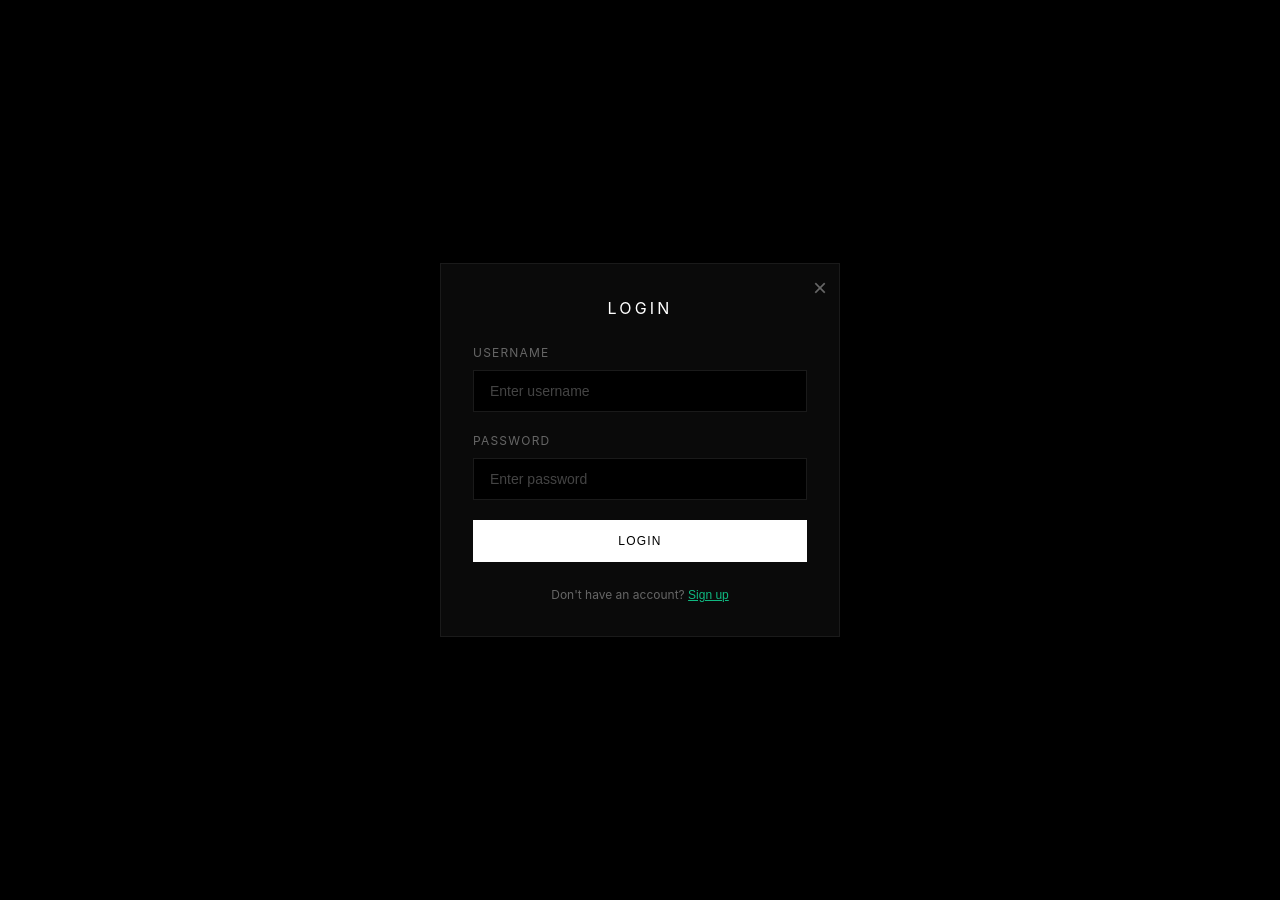
AuthModal › displays error message on login failure
This screenshot has width=1280, height=900.
In the field labelled "Username": (640, 391) 473,370 -> 807,412, type "testuser"
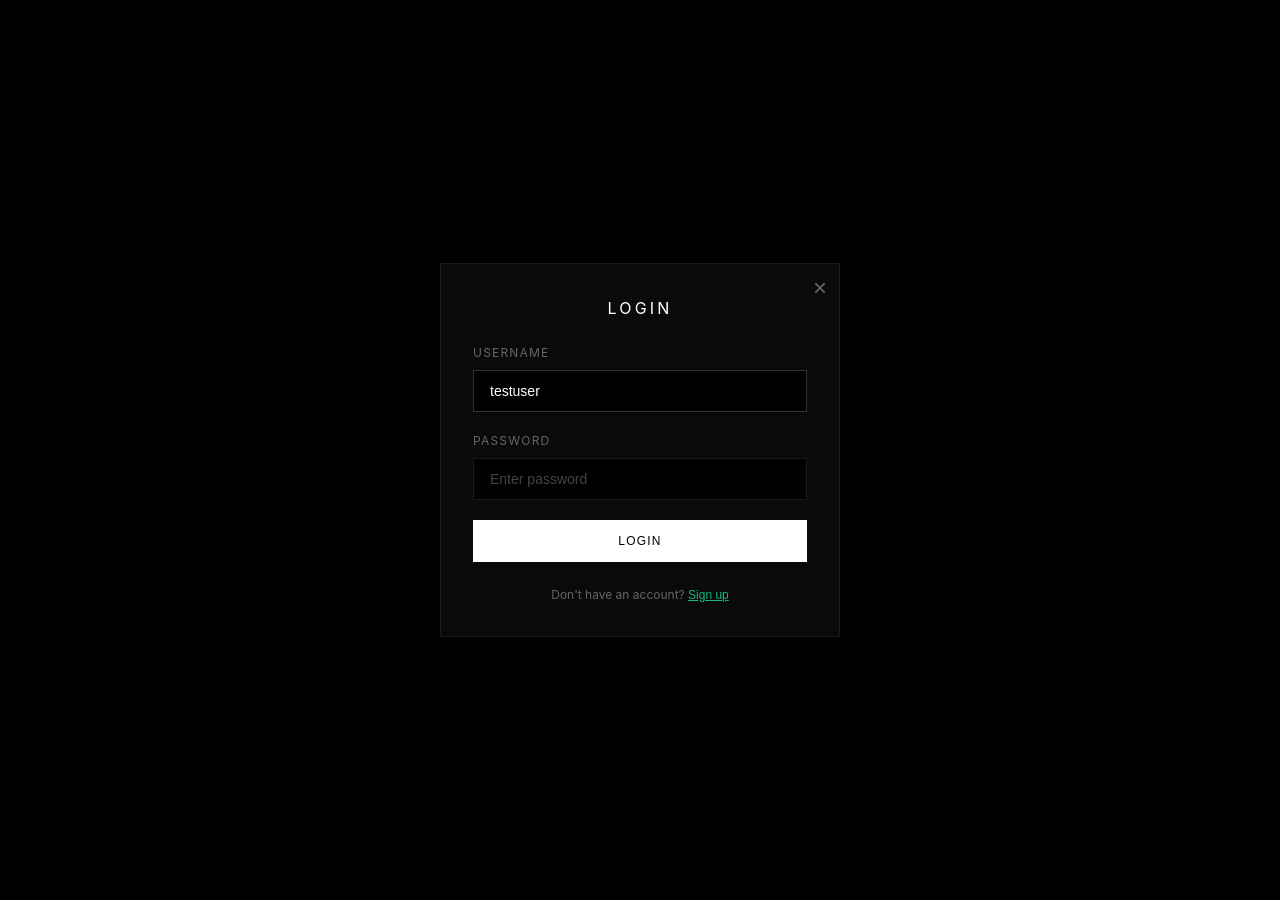
In the password field labelled "Password": (640, 479) 473,458 -> 807,500, type "wrongpassword"
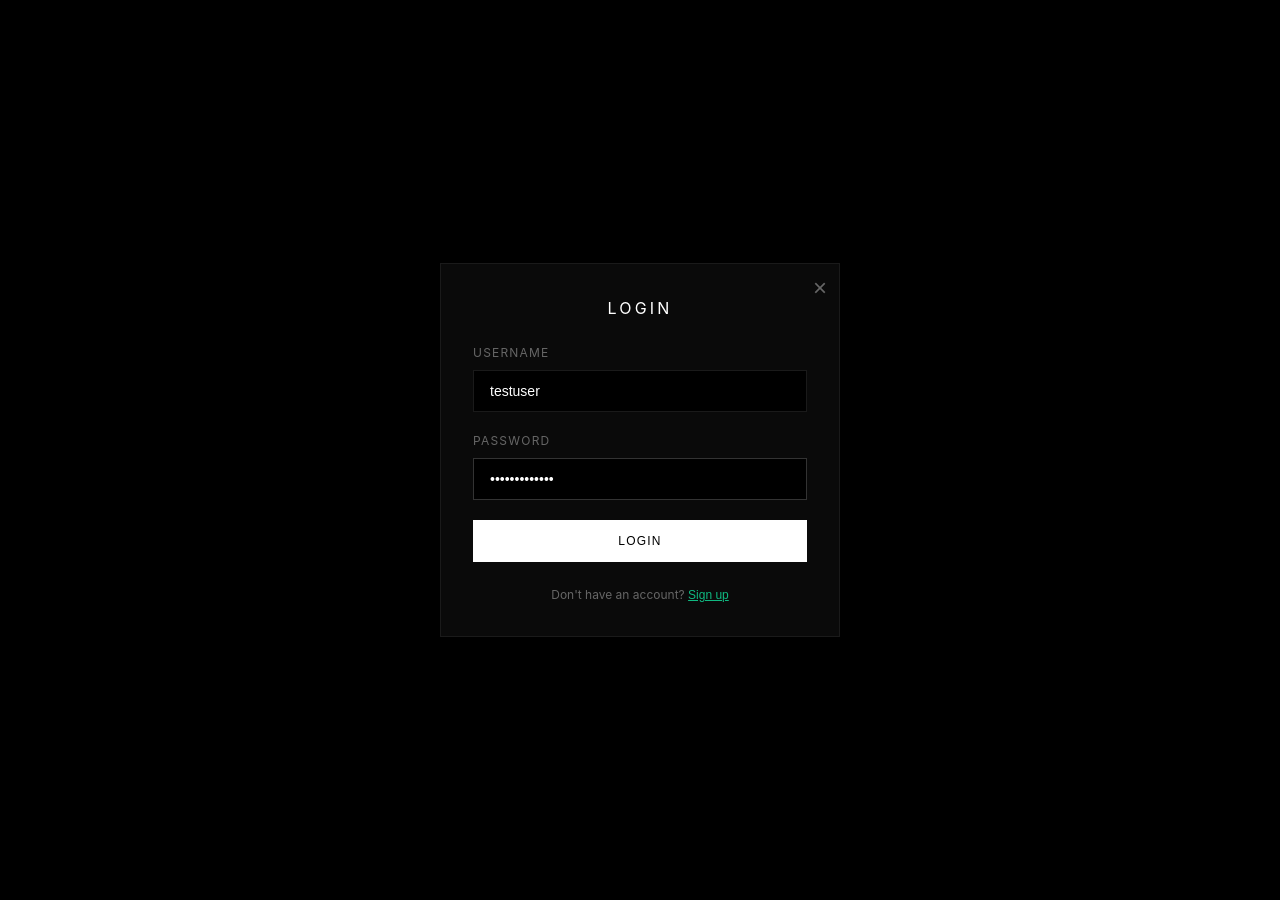
Click the button "Login": (640, 541) 473,520 -> 807,562
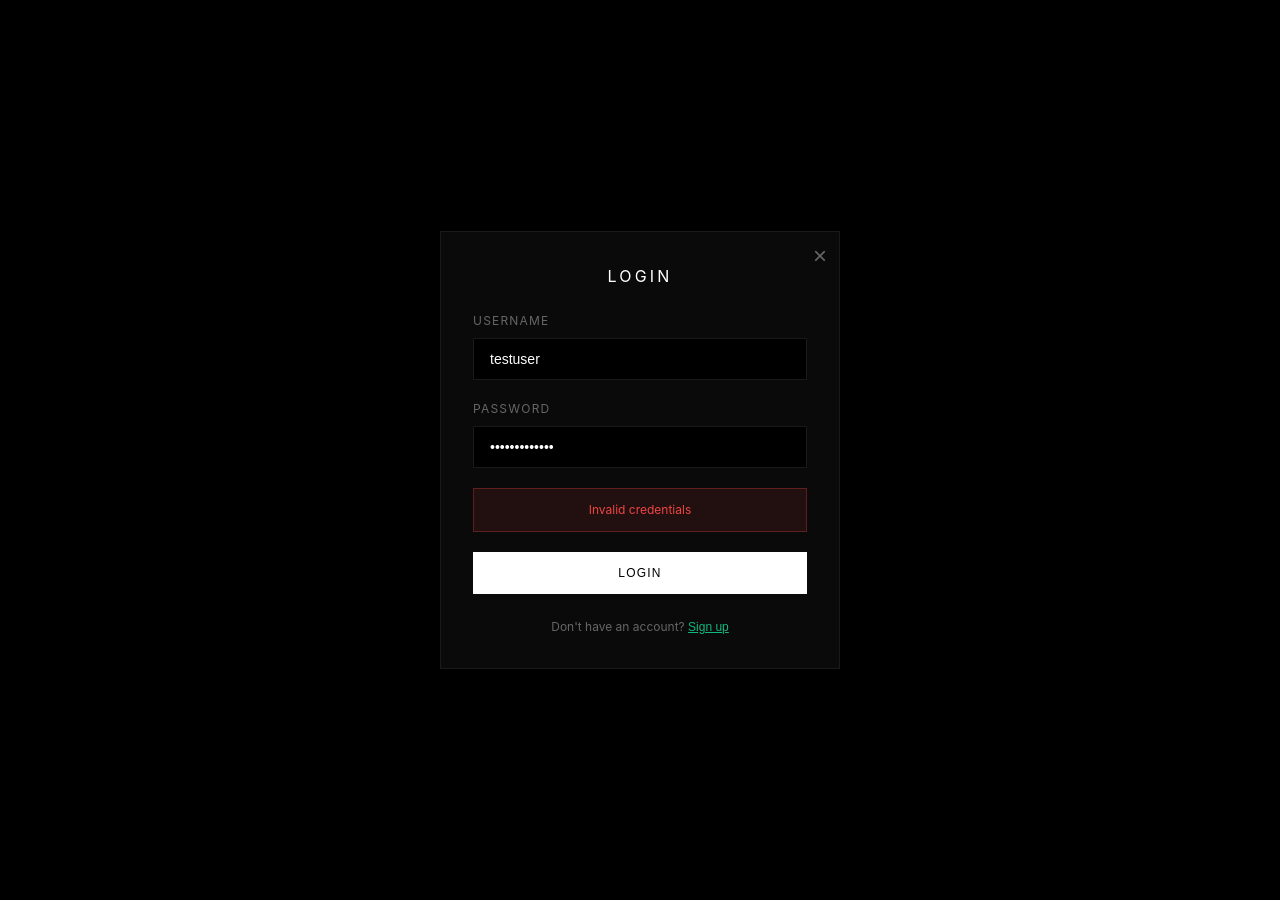
Now the text "Invalid credentials" is shown, box 473,488 -> 807,532
